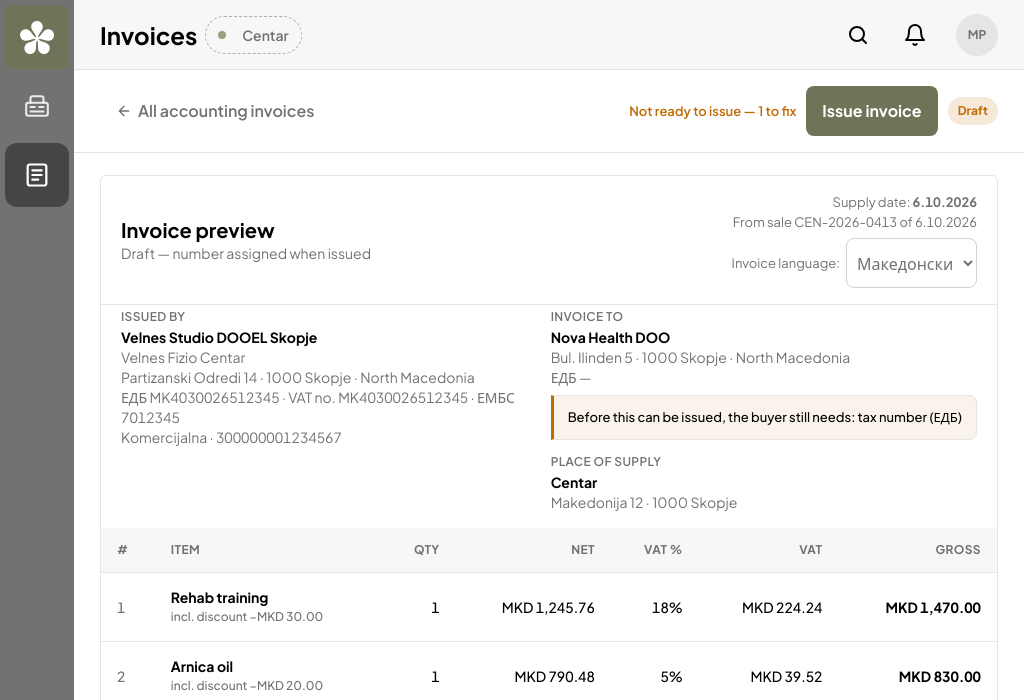
Test: accounting invoices › issuing (phase 3) › a draft that is not ready says so; the modal lists the problems and will not confirm
Expected: the text with test id "issue-readiness" shows "1 to fix", [629, 103, 796, 119]
Click the button with test id "issue-btn": point(872, 111) [806, 86, 938, 136]
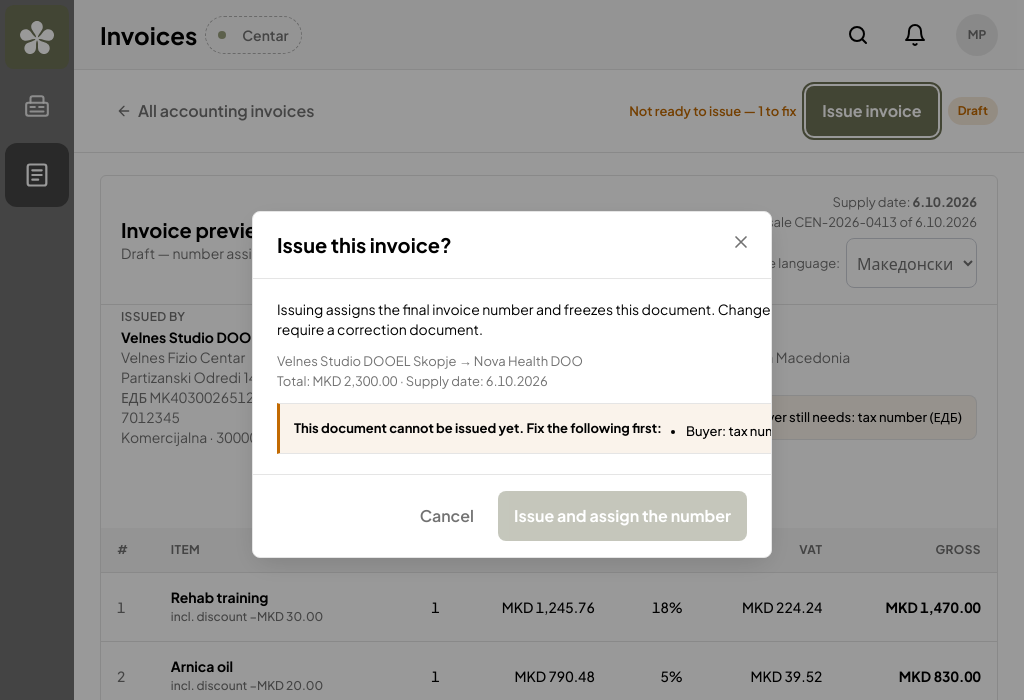
Expected: the heading "Issue this invoice?" is shown, [277, 232, 452, 256]
Expected: the text "assigns the final invoice number and freezes this document" is shown, [277, 300, 771, 338]
Expected: the button with test id "issue-confirm" is disabled, [498, 490, 747, 540]
